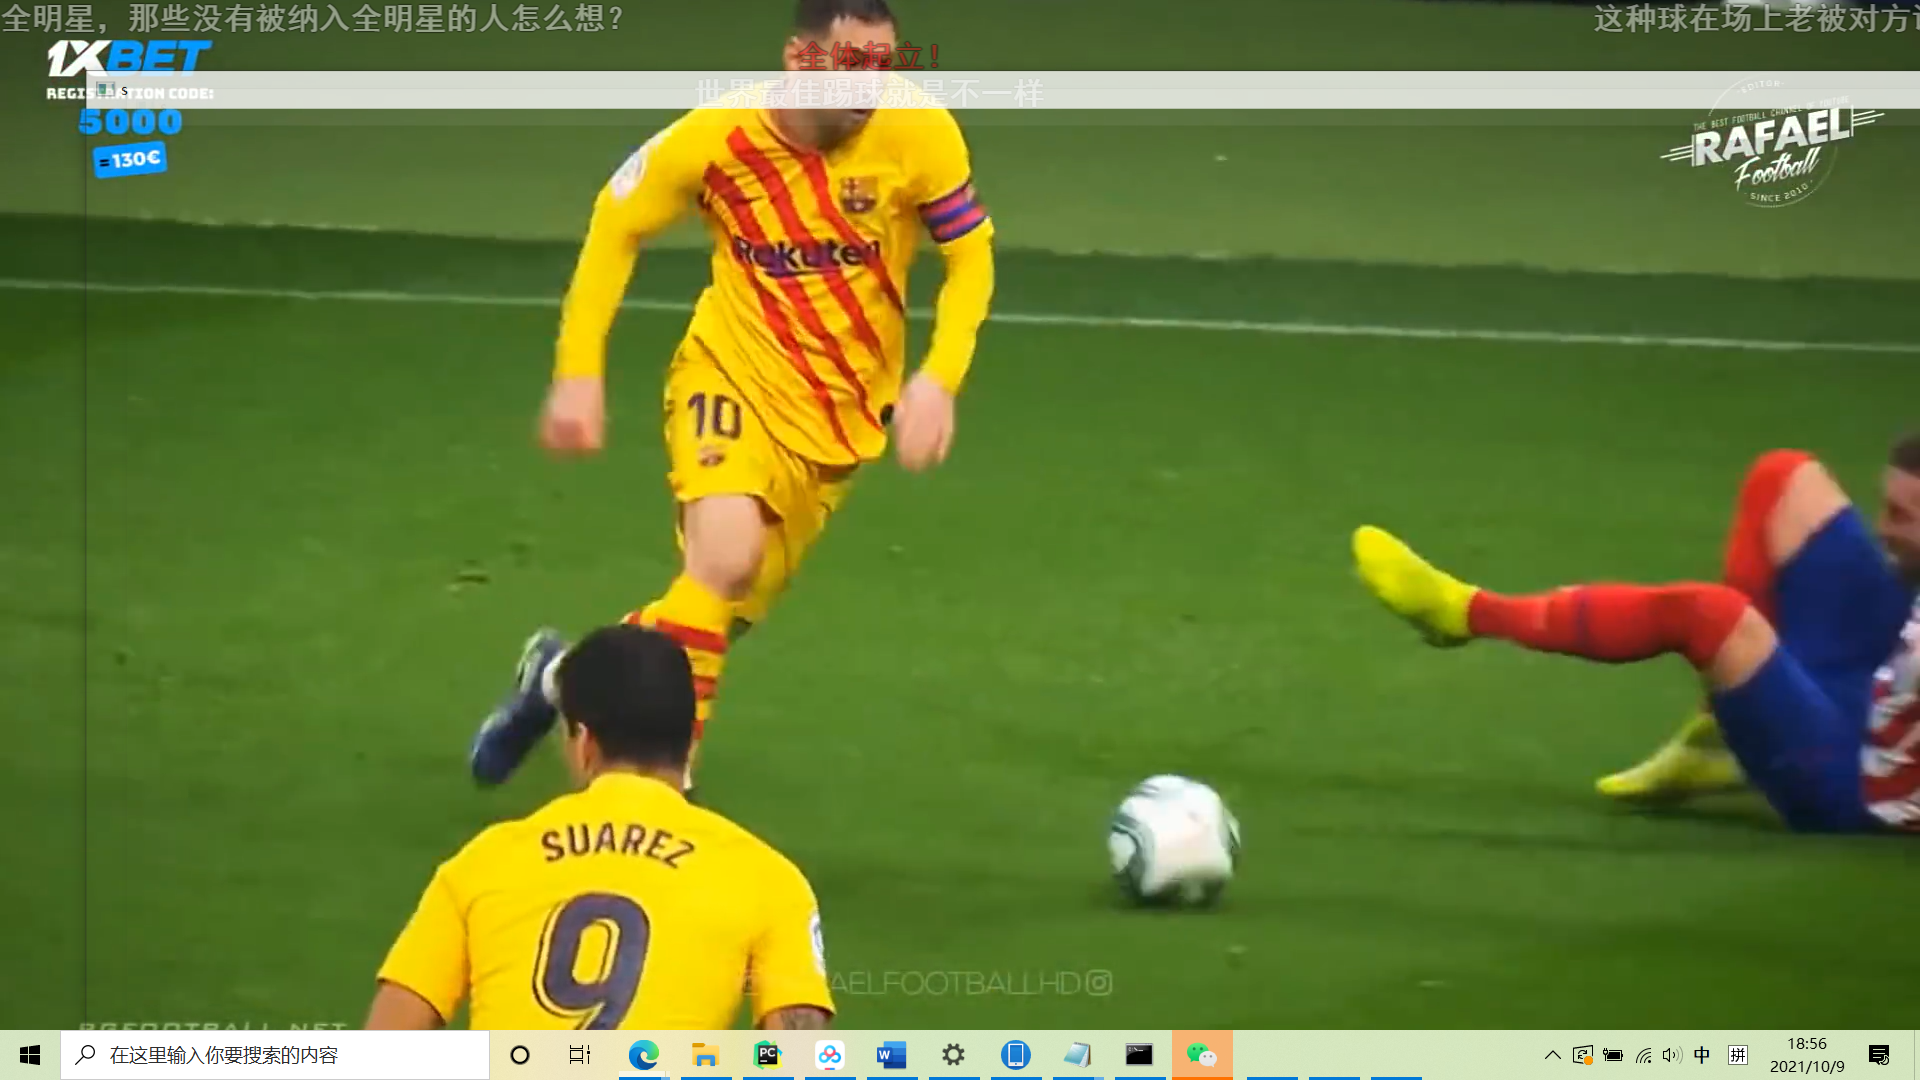ft: (1100, 757, 1251, 918)
